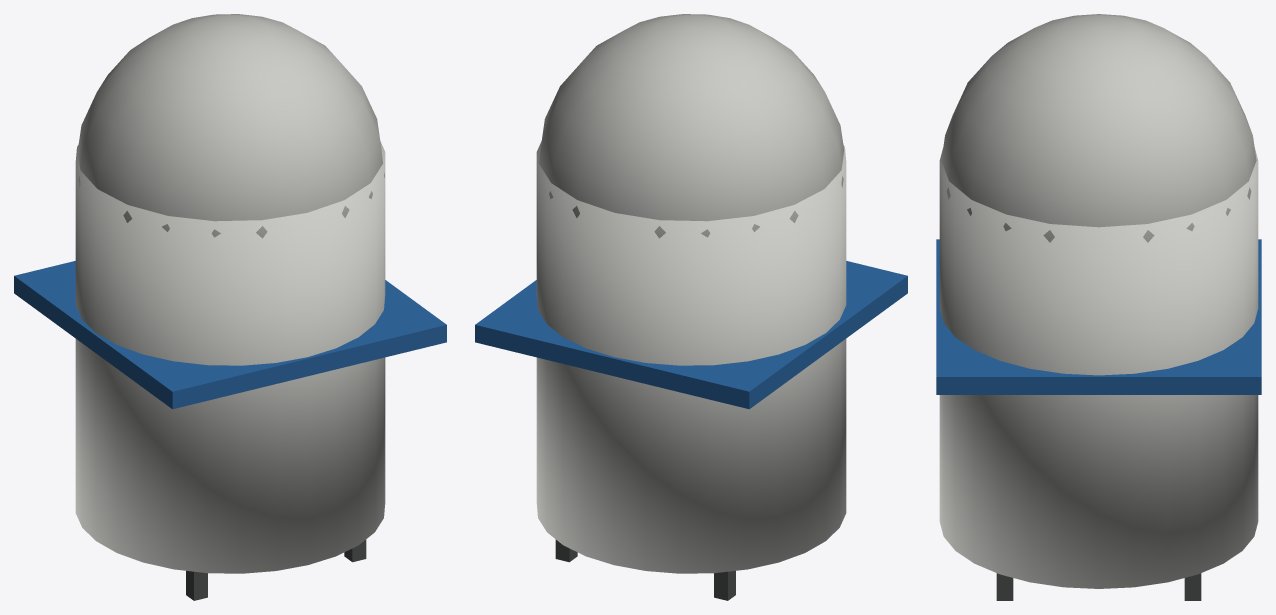
Rendered from ChemTank.fbx.
3 views of the same model, side by side, from view 1: azimuth 30°, elevation 25°; view 2: azimuth 150°, elevation 25°; view 3: azimuth 270°, elevation 25° (orthographic). The views are drawn at different scales.
Parts seen in each view (by area): view 1: Tank, Dome, Band, Leg2; view 2: Tank, Dome, Band, Leg3; view 3: Tank, Dome, Band, Leg0, Leg1.
Boxes of the visible parts, x1,y1,x2,y2 form: Tank: (75,141,385,573); Dome: (78,14,384,238); Band: (14,261,446,409); Leg2: (186,571,207,600); Tank: (536,141,846,573); Dome: (537,14,843,238); Band: (475,261,907,409); Leg3: (714,571,735,600); Tank: (939,148,1258,588); Dome: (941,14,1256,242); Band: (936,239,1261,394); Leg0: (1184,573,1201,600); Leg1: (996,573,1013,600).
Bounding box in the file's own units: 490 × 490 × 880.
